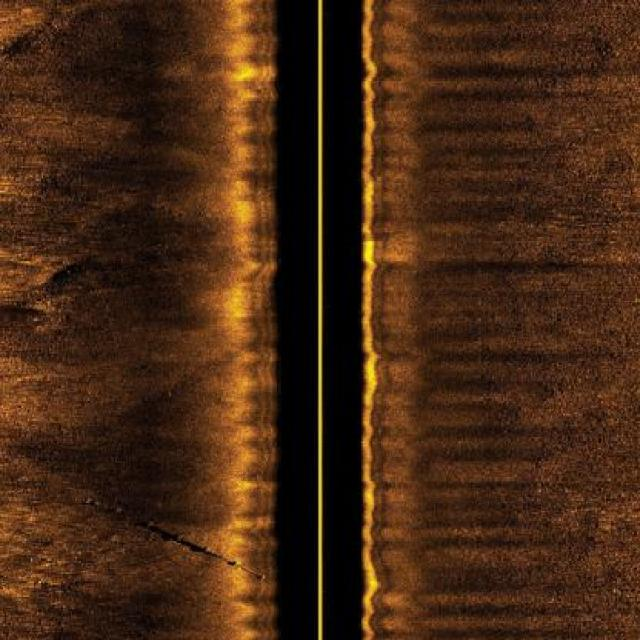other: (62, 485, 262, 578)
